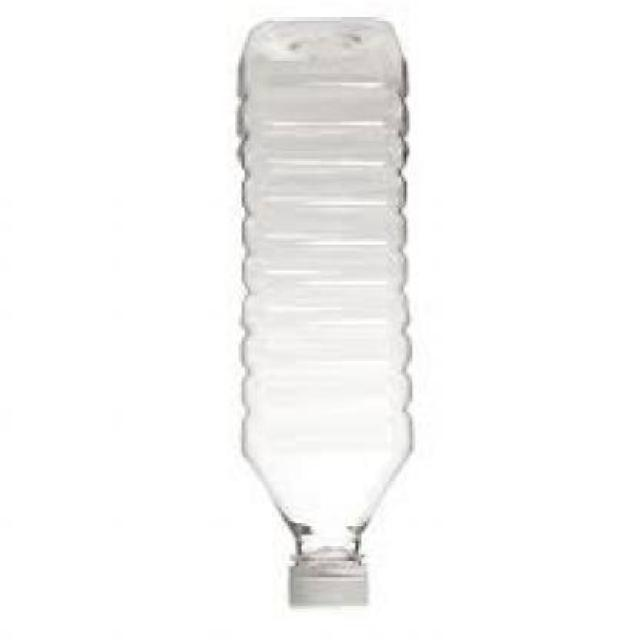PLASTIC: (233, 20, 407, 611), (284, 554, 367, 612)
